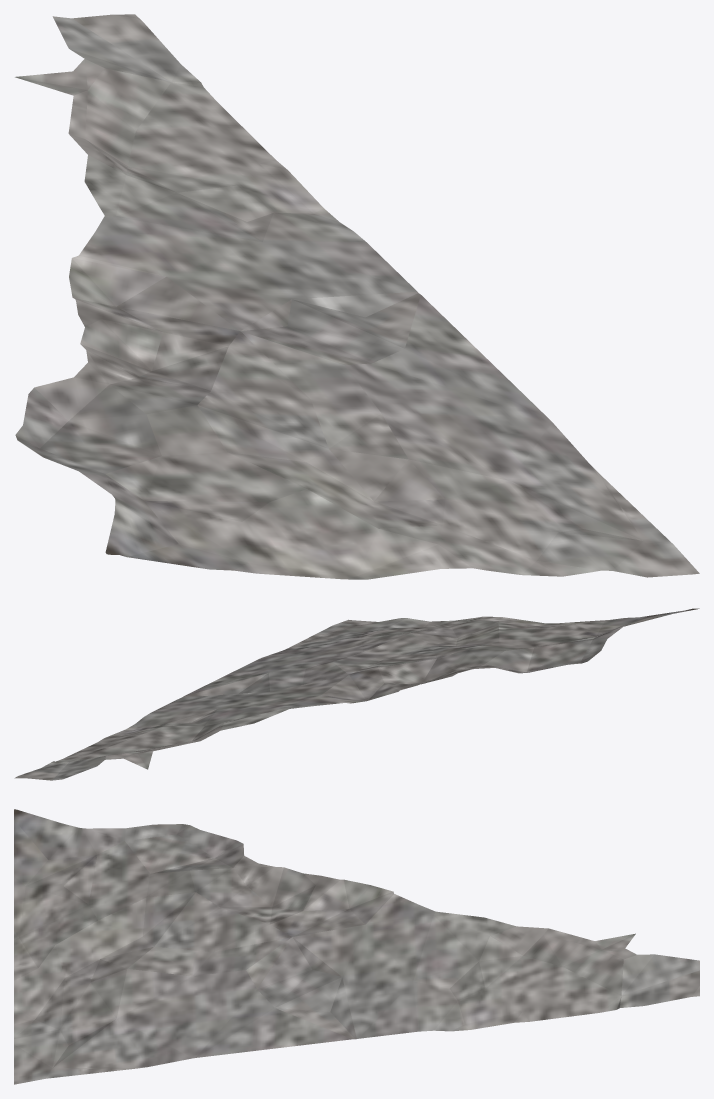
The picture shows the model from 3 angles, top to bottom: view 1: azimuth 30°, elevation 25°; view 2: azimuth 150°, elevation 25°; view 3: azimuth 270°, elevation 25°; orthographic projection. The views are drawn at different scales.
Size of the model in its own units: 0.5078 by 0.1342 by 0.8374.
Materials: 1 (1 with a texture image).
